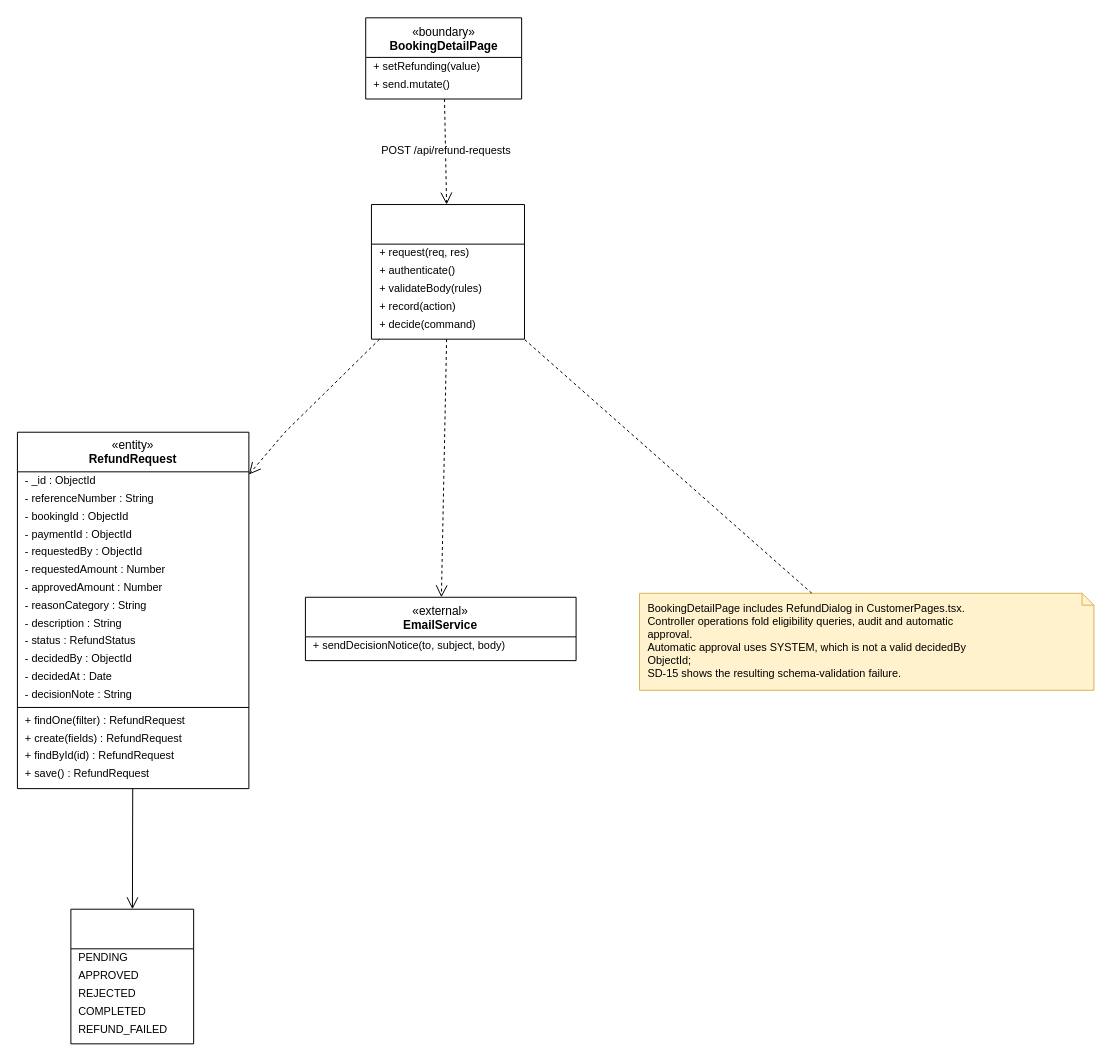
This 1112x1061 diagram has some shape labels left out. The box of each missing label's shape, as (x1, y1, x2, y2) in pixels:
«boundary» RefundController: (370, 204, 525, 339)
«enumeration» RefundStatus: (70, 908, 194, 1044)
